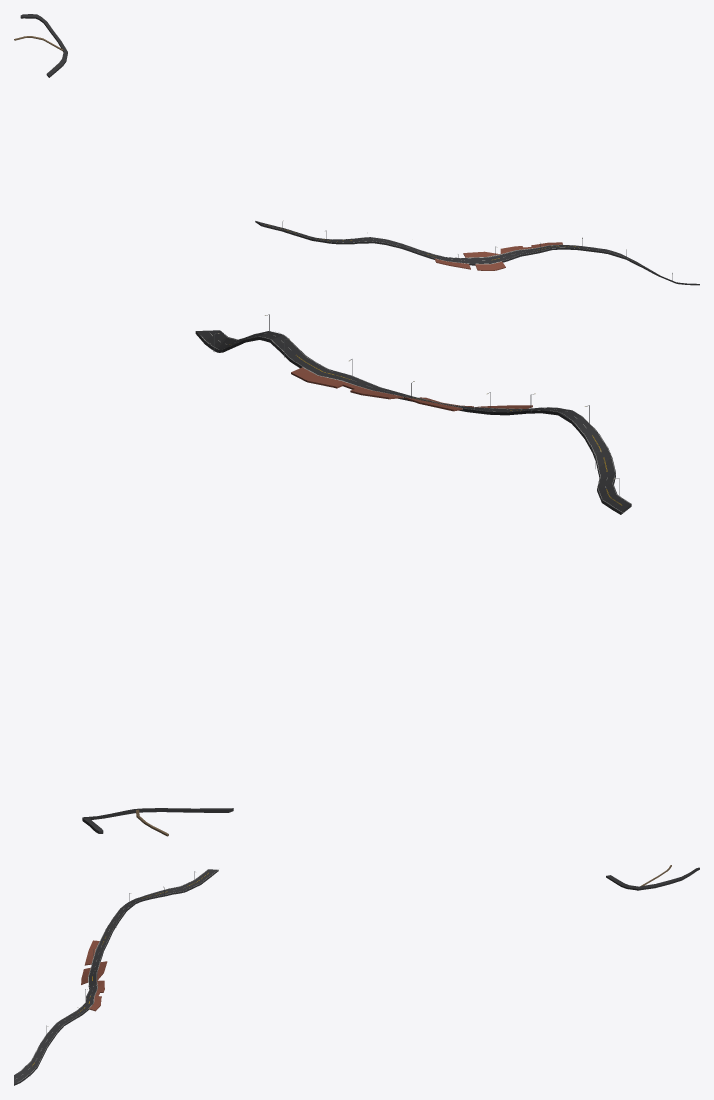
The picture shows the model from 3 angles, top to bottom: view 1: azimuth 30°, elevation 25°; view 2: azimuth 150°, elevation 25°; view 3: azimuth 270°, elevation 25°; orthographic projection. The views are drawn at different scales.
Bounding box in the file's own units: 277 × 63.47 × 518.
